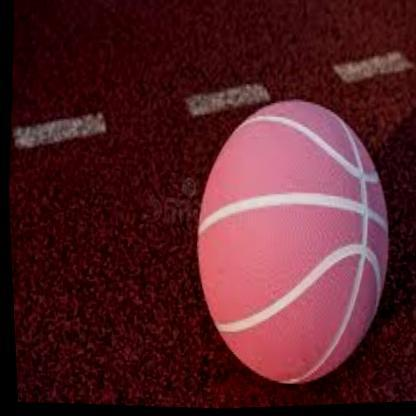basketball: (182, 95, 400, 397)
